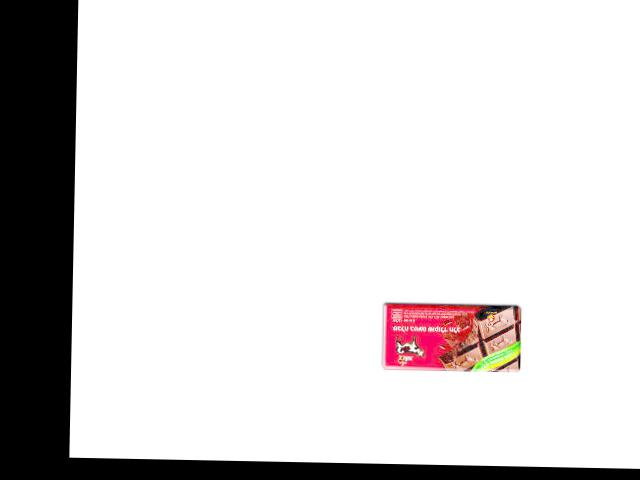chocolate: (377, 295, 521, 374)
